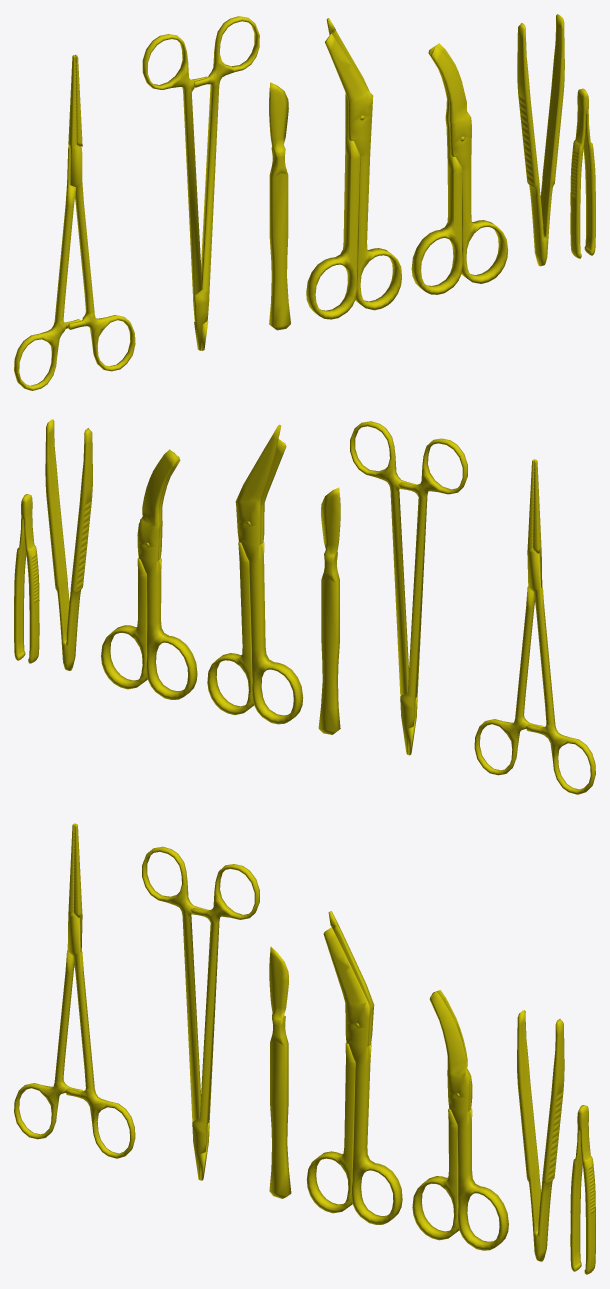
Rendered from SUrGICAL_INSTRUMENT.fbx.
3 renders of one model, top to bottom at view 1: azimuth 30°, elevation 25°; view 2: azimuth 150°, elevation 25°; view 3: azimuth 330°, elevation 25°, orthographic.
Visible parts, largest first — view 1: Plane.001; view 2: Plane.001; view 3: Plane.001.
Part boxes in pixels (x1,y1,x2,y2): Plane.001: (14,14,595,390); Plane.001: (14,419,595,794); Plane.001: (14,823,595,1274).
Size of the model in its own units: 929 by 500 by 22.13.
